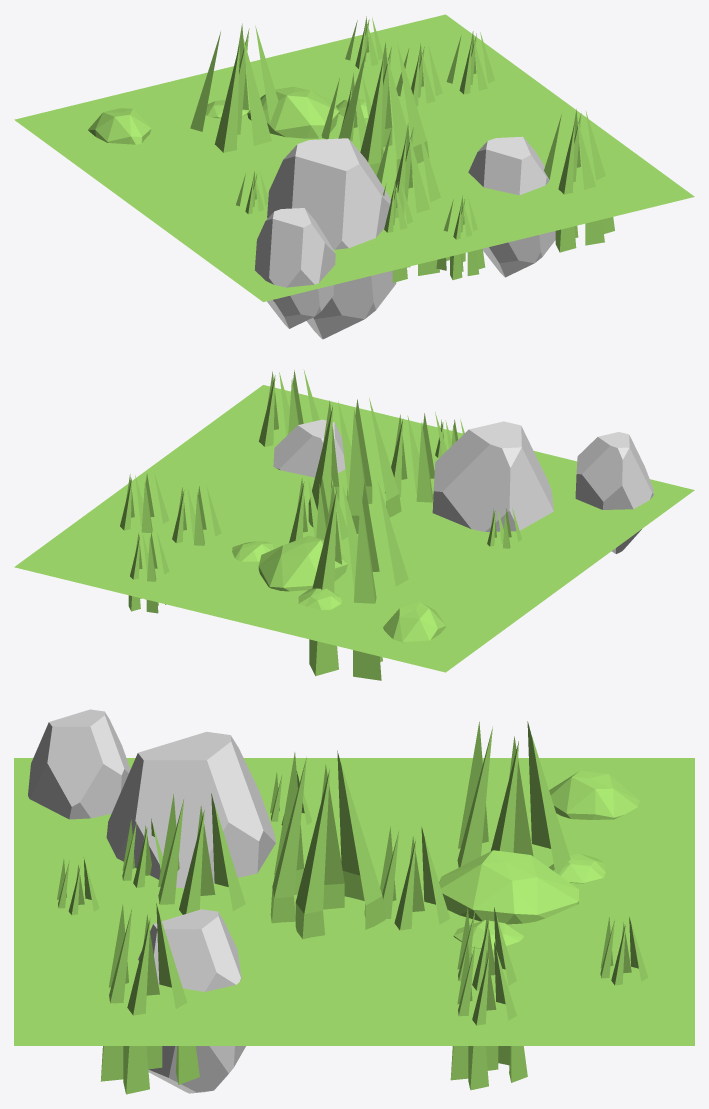
File: grass-composition-big-1.fbx
3 renders of one model, top to bottom at view 1: azimuth 30°, elevation 25°; view 2: azimuth 150°, elevation 25°; view 3: azimuth 270°, elevation 25°, orthographic. The views are drawn at different scales.
Visible parts, largest first — view 1: Plane, Stone1.002, Stone1.1, Stone1.003, Grass, Grass.007, Bush1.2, Grass.001, Grass.012, Bush1.1, Grass.013, Grass.008 (+5 smaller); view 2: Plane, Stone1.002, Grass.007, Stone1.1, Grass, Bush1.2, Stone1.003, Grass.012, Grass.001, Bush1.1, Grass.006, Grass.008 (+3 smaller); view 3: Plane, Stone1.002, Grass, Bush1.2, Stone1.1, Grass.007, Stone1.003, Grass.001, Grass.012, Grass.008, Grass.006, Bush1.1 (+4 smaller).
Boxes of the visible parts, box(x1,y1,x2,y2) form: Plane: box(14, 14, 694, 301); Stone1.002: box(267, 138, 396, 339); Stone1.1: box(255, 208, 335, 328); Stone1.003: box(468, 136, 555, 277); Grass: box(338, 42, 429, 175); Grass.007: box(190, 23, 278, 152); Bush1.2: box(205, 86, 372, 138); Grass.001: box(544, 109, 614, 252); Grass.012: box(376, 123, 449, 282); Bush1.1: box(88, 108, 151, 144); Grass.013: box(436, 195, 485, 279); Grass.008: box(446, 31, 494, 94); Plane: box(14, 385, 694, 672); Stone1.002: box(432, 421, 553, 531); Grass.007: box(309, 480, 408, 680); Stone1.1: box(575, 432, 653, 553); Grass: box(308, 397, 401, 533); Bush1.2: box(232, 536, 347, 609); Stone1.003: box(273, 419, 345, 477); Grass.012: box(385, 412, 446, 502); Grass.001: box(259, 369, 319, 446); Bush1.1: box(383, 601, 445, 642); Grass.006: box(289, 476, 348, 542); Grass.008: box(120, 473, 169, 532); Plane: box(14, 758, 694, 1045); Stone1.002: box(106, 731, 275, 888); Grass: box(270, 750, 385, 939); Bush1.2: box(439, 850, 605, 949); Stone1.1: box(28, 709, 130, 819); Grass.007: box(457, 721, 570, 874); Stone1.003: box(138, 909, 245, 1093); Grass.001: box(100, 903, 199, 1094); Grass.012: box(158, 793, 245, 914); Grass.008: box(450, 942, 527, 1090); Grass.006: box(380, 826, 450, 930); Bush1.1: box(549, 770, 639, 819).
Bounding box in the file's own units: 200 × 101 × 200.
